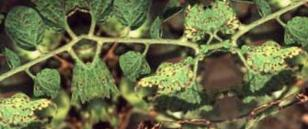Tomato Septoria leaf spot: (133, 54, 201, 105), (173, 0, 217, 58), (106, 0, 158, 39), (113, 44, 155, 92), (86, 47, 120, 103), (167, 0, 208, 14)
